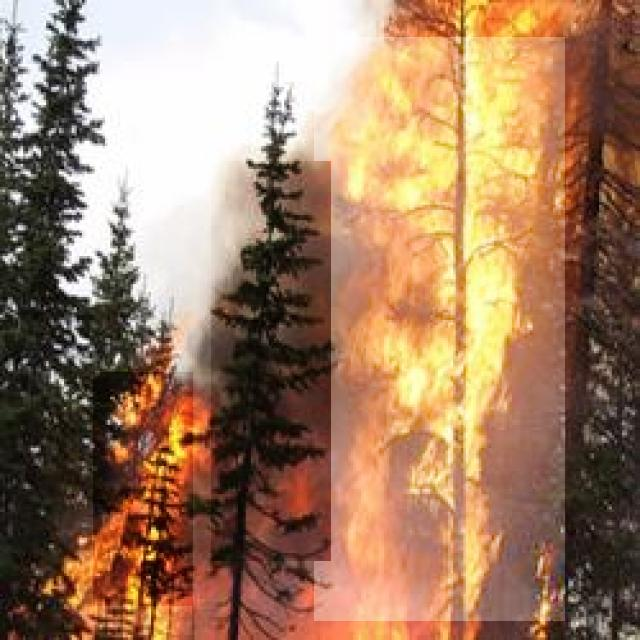Fire: (314, 37, 565, 621), (93, 372, 193, 606)
Smoke: (211, 161, 331, 561)
